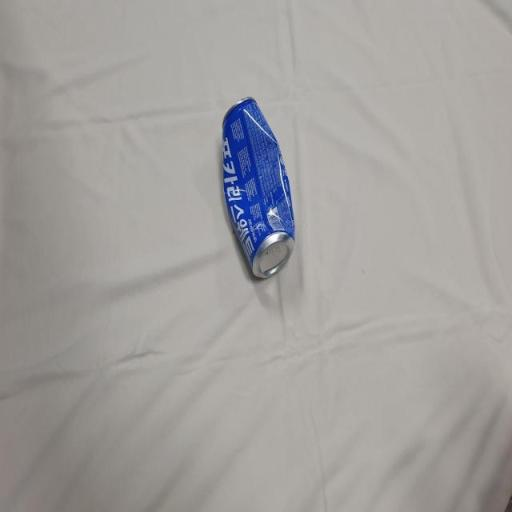metal: (196, 67, 303, 296)
